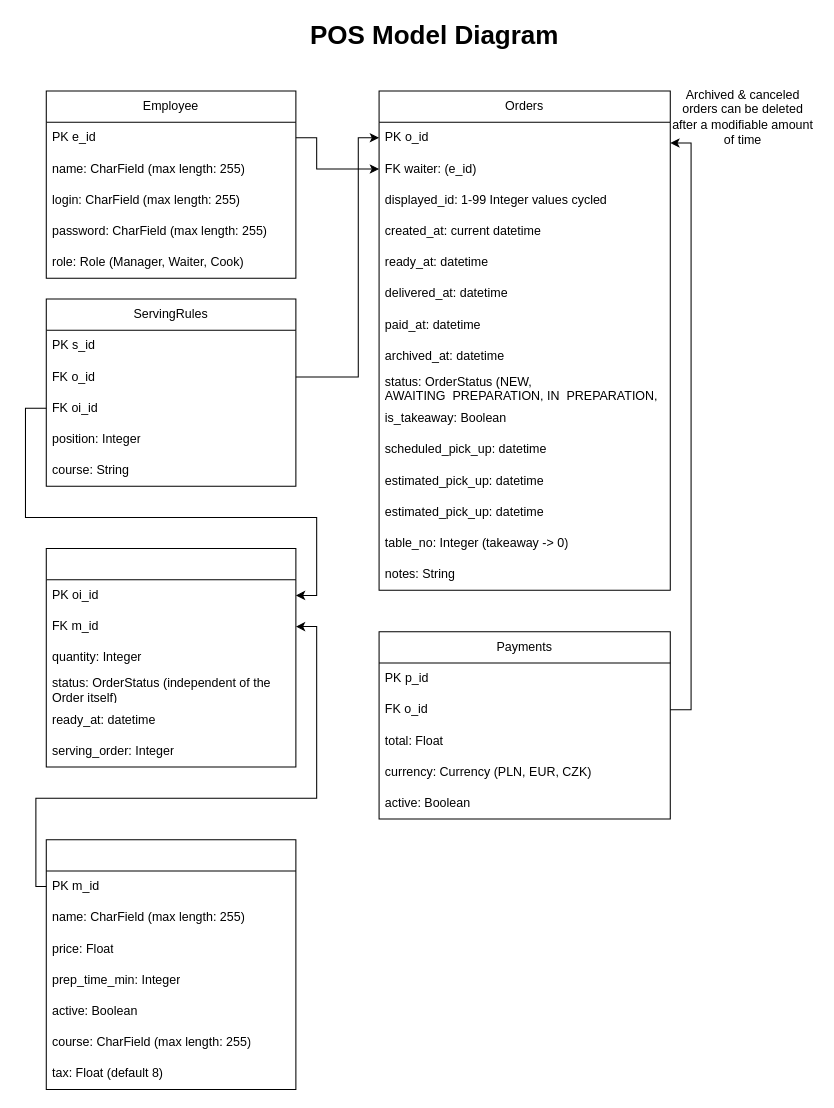
This 834x1108 diagram has some shape labels left out. The shapes that lost their labels are listed below. From the top down, each one's box as (x1, y1, x2, y2) in pixels, then its label:
(45, 548, 296, 767): OrderItems
(45, 839, 296, 1089): MenuItems
